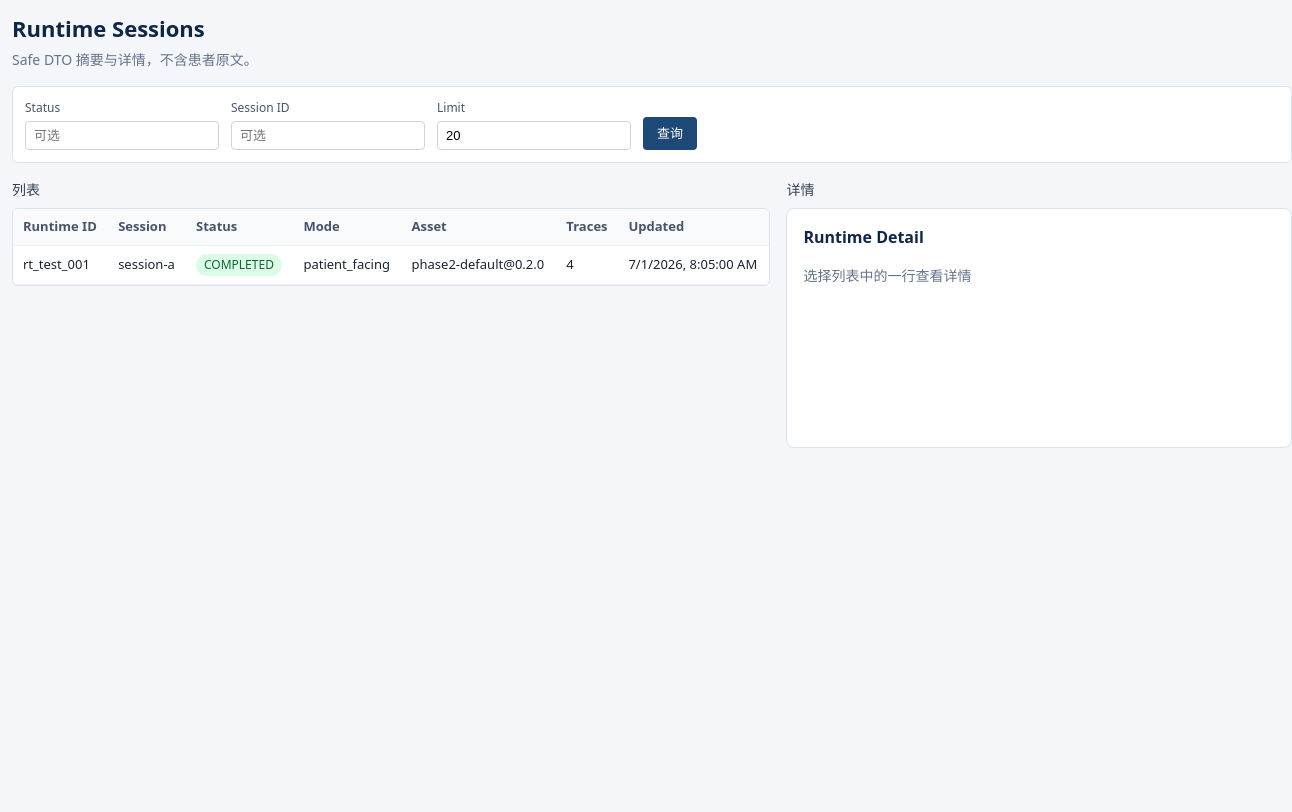
Test case: RuntimePage › loads runtime list and shows safe detail without sensitive fields
The width and height of the screenshot is (1292, 812).
Click the text "rt_test_001" at (61, 264), box [13, 245, 108, 284]
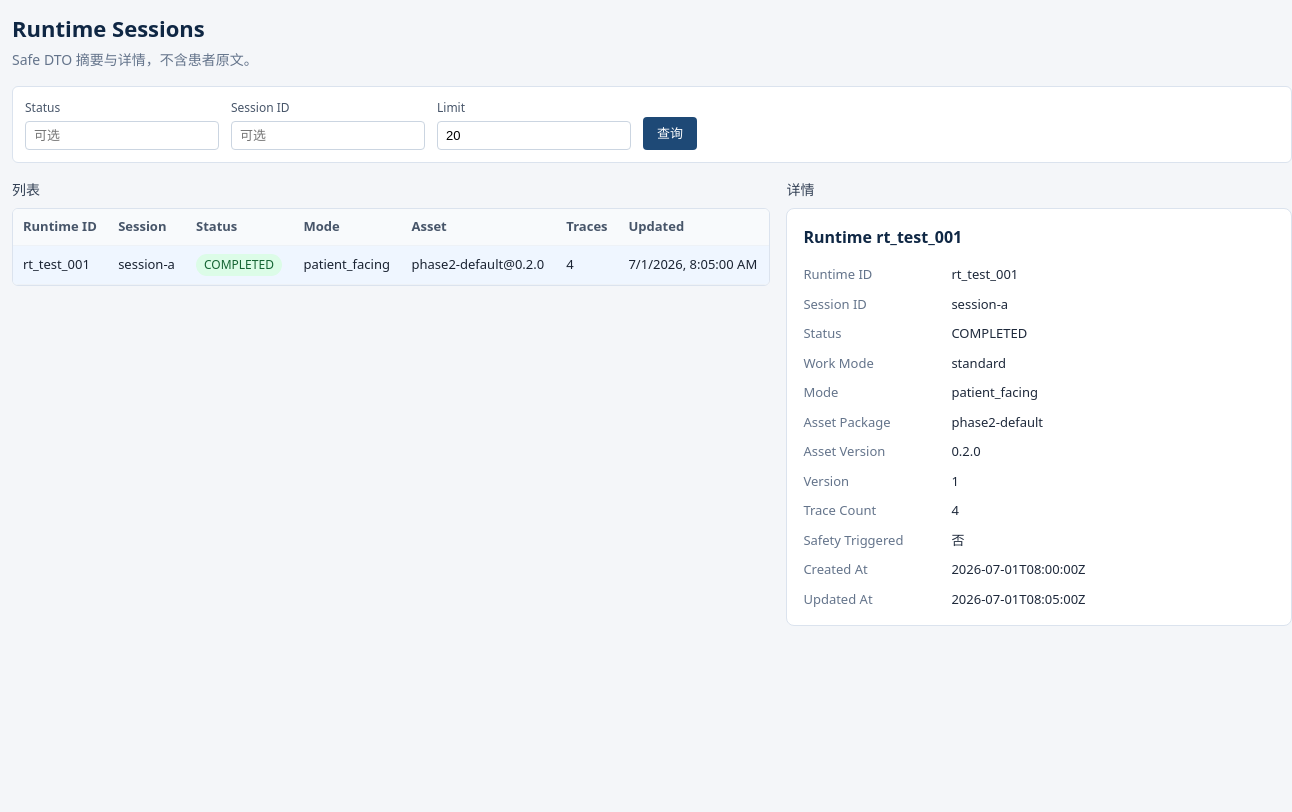
Check: the element "Runtime rt_test_001" is shown, box [786, 208, 1291, 626]
Check: the text "session-a" is shown, box [951, 294, 1008, 312]
